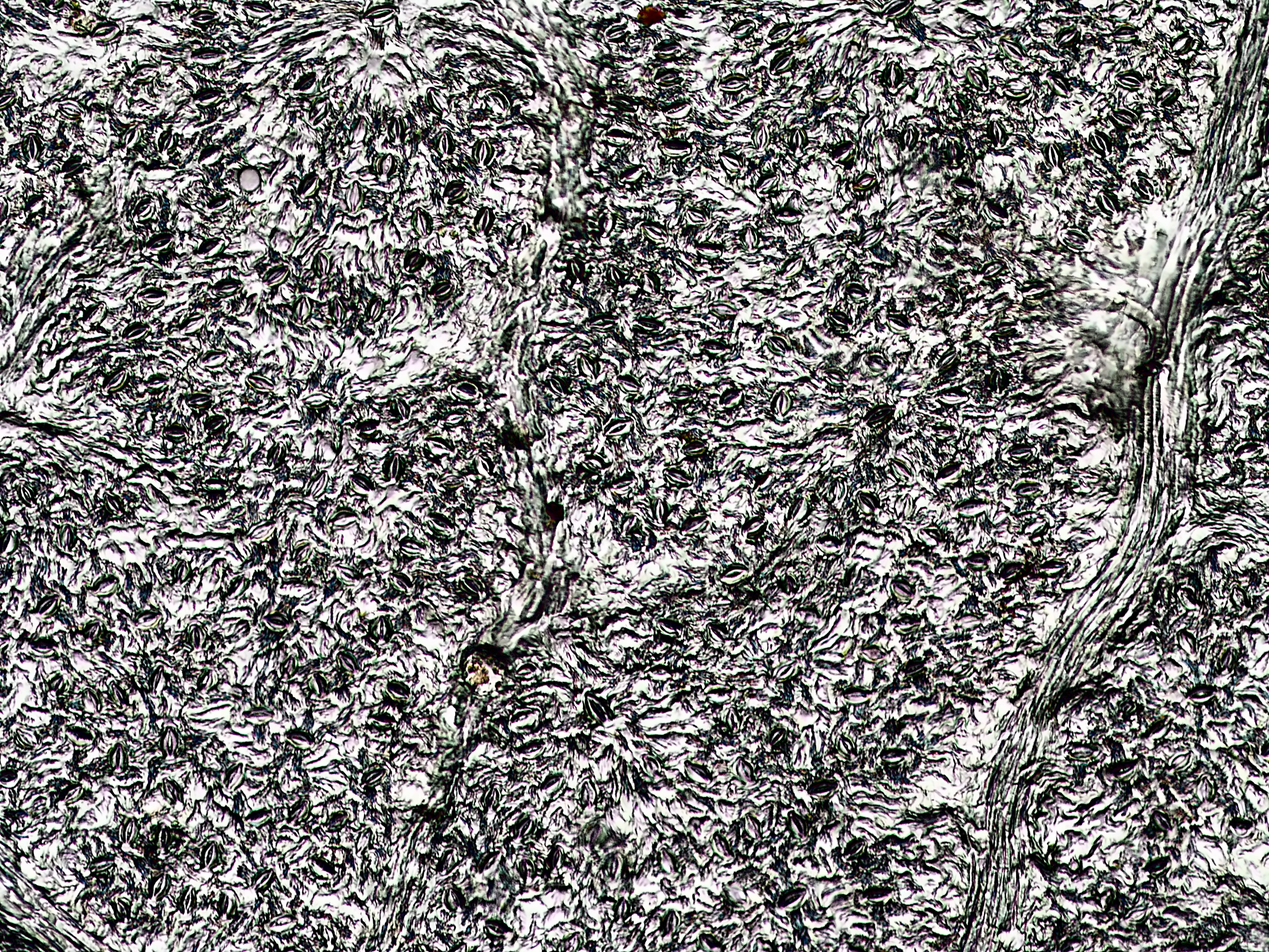stomata: (505, 705, 544, 731), (360, 2, 403, 24), (1057, 229, 1093, 253), (307, 856, 342, 880), (657, 135, 693, 158), (1007, 479, 1048, 499), (295, 171, 320, 203), (1005, 442, 1037, 467), (135, 284, 171, 306), (101, 366, 128, 395), (603, 122, 637, 145), (586, 689, 609, 723), (719, 150, 749, 176), (887, 458, 919, 482), (761, 334, 794, 357), (475, 850, 500, 880), (189, 85, 226, 105), (305, 469, 328, 501), (284, 728, 316, 751), (741, 514, 769, 540), (1233, 440, 1266, 462), (1170, 33, 1200, 57), (118, 321, 152, 342), (777, 886, 808, 909), (765, 22, 797, 44), (788, 807, 810, 839), (426, 87, 451, 115), (383, 454, 407, 483), (719, 559, 748, 583), (1108, 758, 1141, 779), (346, 470, 373, 495), (103, 491, 128, 518), (263, 609, 290, 634), (387, 570, 414, 595), (245, 373, 277, 394), (806, 777, 838, 798), (933, 387, 970, 405), (441, 181, 471, 203), (259, 265, 289, 287), (699, 334, 729, 356), (245, 806, 275, 828), (863, 882, 896, 902), (264, 911, 295, 932), (987, 119, 1008, 150), (408, 209, 434, 234), (1045, 74, 1071, 99), (324, 809, 351, 833), (879, 0, 913, 19), (672, 254, 695, 282), (824, 367, 852, 390), (210, 279, 242, 299), (428, 278, 457, 300), (663, 466, 692, 488), (344, 181, 365, 211), (1002, 78, 1032, 99), (858, 227, 884, 251), (770, 391, 794, 417), (37, 592, 60, 619), (882, 61, 905, 88), (374, 151, 396, 179), (149, 871, 171, 899), (1129, 176, 1157, 198), (935, 459, 963, 481), (815, 531, 843, 553), (684, 761, 712, 783), (191, 47, 227, 64), (146, 230, 175, 251), (328, 509, 357, 530), (662, 907, 683, 936), (82, 302, 106, 327), (247, 519, 277, 539), (440, 888, 464, 913), (515, 740, 545, 760), (1228, 584, 1251, 610), (683, 514, 710, 536), (335, 564, 366, 583), (719, 73, 750, 92), (244, 705, 275, 724), (450, 380, 479, 400), (218, 890, 238, 919), (865, 405, 894, 425), (547, 844, 567, 873), (91, 23, 123, 41), (162, 777, 186, 801), (620, 162, 644, 186), (1098, 191, 1121, 216), (984, 200, 1009, 223), (967, 549, 992, 572), (1177, 588, 1202, 611), (426, 513, 452, 535), (149, 666, 168, 696), (653, 41, 683, 60), (664, 102, 694, 121), (595, 208, 614, 238), (725, 704, 744, 734), (348, 114, 369, 141), (177, 314, 204, 335), (728, 19, 755, 40), (1112, 108, 1139, 129), (717, 386, 744, 407), (711, 829, 732, 856), (743, 816, 764, 843), (188, 7, 219, 25), (1038, 558, 1069, 576), (15, 726, 39, 749), (1088, 132, 1112, 155), (225, 761, 244, 790), (1175, 629, 1197, 654), (267, 442, 288, 468), (184, 623, 205, 649), (787, 496, 808, 522), (1142, 624, 1163, 650), (735, 756, 756, 782), (133, 610, 163, 628), (63, 724, 93, 742), (1111, 25, 1141, 43), (1040, 140, 1060, 167), (473, 206, 492, 234), (292, 295, 311, 323), (653, 68, 681, 87), (609, 92, 637, 111), (775, 206, 803, 225), (1022, 278, 1050, 297), (637, 315, 665, 334), (1197, 774, 1216, 802), (787, 127, 810, 150), (505, 221, 528, 244), (679, 440, 712, 456), (511, 856, 535, 878), (162, 727, 179, 758), (957, 500, 988, 517), (1056, 27, 1081, 48), (616, 372, 641, 393), (198, 349, 227, 367), (303, 393, 332, 411), (200, 475, 229, 493), (474, 142, 494, 168), (400, 537, 426, 557), (439, 848, 459, 874), (842, 282, 869, 301), (705, 683, 732, 702), (424, 437, 454, 454), (110, 743, 127, 773), (586, 314, 620, 329), (1184, 686, 1214, 703), (1001, 38, 1023, 61), (966, 68, 988, 91), (781, 256, 803, 279), (135, 411, 156, 435), (80, 689, 101, 713), (695, 241, 723, 259), (605, 417, 633, 435), (579, 454, 607, 472), (857, 490, 881, 511), (842, 687, 870, 705), (858, 644, 886, 662), (514, 661, 542, 679), (369, 710, 397, 728), (365, 297, 385, 322), (1156, 85, 1181, 105), (254, 867, 273, 893), (482, 917, 508, 936), (1231, 815, 1257, 834), (742, 223, 759, 252), (58, 523, 76, 550), (288, 498, 315, 516), (605, 263, 623, 290), (651, 498, 669, 525), (996, 561, 1023, 579), (564, 257, 586, 279), (642, 222, 665, 243), (546, 374, 567, 397), (1146, 716, 1167, 739), (179, 884, 195, 914), (772, 53, 796, 73), (578, 355, 598, 379), (1168, 749, 1192, 769), (516, 817, 536, 841), (485, 785, 505, 809), (656, 617, 686, 633), (388, 115, 405, 143), (895, 492, 912, 520), (901, 661, 929, 678), (751, 125, 770, 150), (197, 147, 223, 165), (436, 130, 454, 156), (0, 531, 18, 557), (119, 818, 137, 844), (201, 840, 216, 871), (579, 777, 594, 808), (244, 2, 273, 18), (932, 230, 961, 246), (205, 413, 227, 434), (193, 669, 214, 691), (754, 173, 776, 194), (311, 252, 331, 275), (17, 485, 40, 505), (93, 576, 116, 596), (461, 575, 484, 595), (936, 350, 959, 370), (602, 22, 629, 39), (894, 613, 921, 630), (405, 247, 424, 271), (831, 141, 855, 160), (830, 480, 849, 504), (144, 372, 169, 390), (392, 394, 410, 419), (109, 683, 127, 708), (809, 86, 839, 101), (86, 858, 118, 872), (1114, 71, 1142, 87), (945, 136, 961, 164), (647, 639, 673, 656), (541, 773, 562, 794), (388, 678, 410, 698), (486, 92, 509, 111), (951, 93, 970, 116), (605, 853, 624, 876), (707, 304, 736, 319), (198, 238, 222, 256), (988, 368, 1006, 392), (1144, 856, 1171, 872), (889, 581, 916, 597), (642, 754, 660, 778), (753, 471, 773, 492), (707, 622, 727, 643), (296, 71, 315, 93), (477, 455, 496, 477), (881, 745, 907, 761), (58, 101, 82, 118), (901, 126, 918, 150), (185, 393, 214, 407), (1069, 744, 1098, 758), (207, 197, 232, 213), (173, 558, 189, 583), (64, 783, 84, 803), (611, 476, 636, 492), (357, 416, 378, 435), (82, 620, 103, 639), (854, 169, 875, 188), (844, 839, 865, 858), (24, 132, 38, 160), (889, 313, 912, 330), (437, 476, 467, 489), (31, 638, 57, 653), (328, 299, 344, 323), (641, 271, 657, 295), (134, 200, 153, 220), (293, 542, 312, 562), (48, 674, 68, 693), (617, 515, 637, 534), (362, 767, 382, 786), (768, 725, 787, 745), (950, 179, 977, 193), (1256, 261, 1269, 290), (375, 616, 390, 641), (1219, 647, 1234, 672), (229, 576, 246, 598), (982, 260, 1004, 277), (939, 285, 961, 302), (337, 654, 357, 672), (1, 769, 19, 789), (115, 897, 130, 921), (673, 385, 697, 400), (60, 160, 81, 177), (1126, 906, 1149, 921), (1154, 811, 1172, 830), (777, 661, 795, 680), (132, 63, 156, 77), (647, 663, 671, 677), (165, 424, 187, 439), (687, 207, 709, 222), (865, 353, 884, 370), (158, 825, 171, 849), (160, 130, 174, 152), (124, 127, 139, 147), (840, 736, 854, 757), (312, 672, 325, 694), (441, 412, 464, 424), (615, 899, 629, 918), (234, 619, 250, 635), (830, 312, 851, 324), (0, 91, 12, 108)
